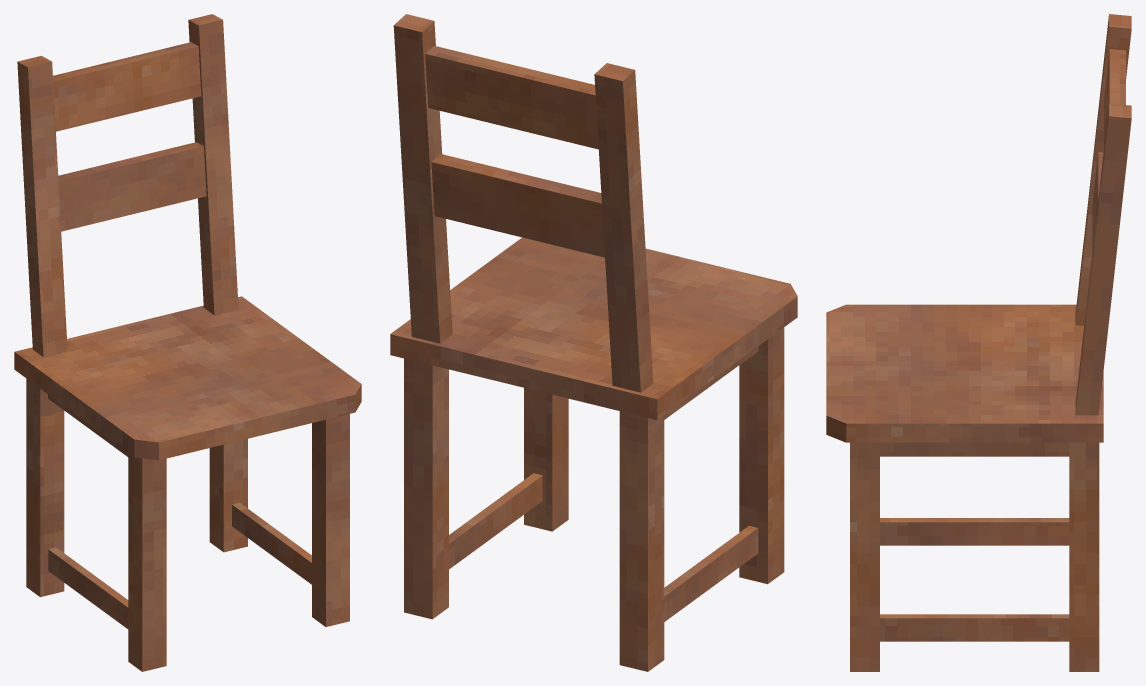
The model's file is Chair.fbx.
The picture shows the model from 3 angles, left to right: view 1: azimuth 30°, elevation 25°; view 2: azimuth 150°, elevation 25°; view 3: azimuth 270°, elevation 25°; orthographic projection. The views are drawn at different scales.
Parts seen in each view (by area): view 1: Chair; view 2: Chair; view 3: Chair.
Part boxes in pixels (box(x1,y1,x2,y2)): Chair: box(14, 14, 361, 671); Chair: box(390, 14, 797, 671); Chair: box(826, 14, 1131, 671).
Bounding box in the file's own units: 190 × 411 × 206.
1 material, 1 textured.
